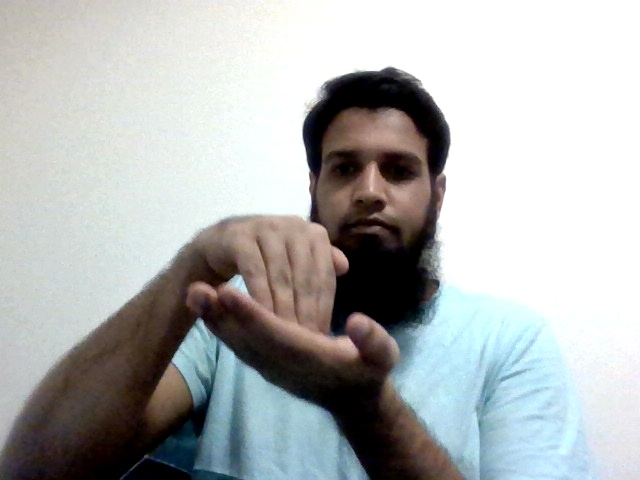again: (183, 210, 402, 410)
